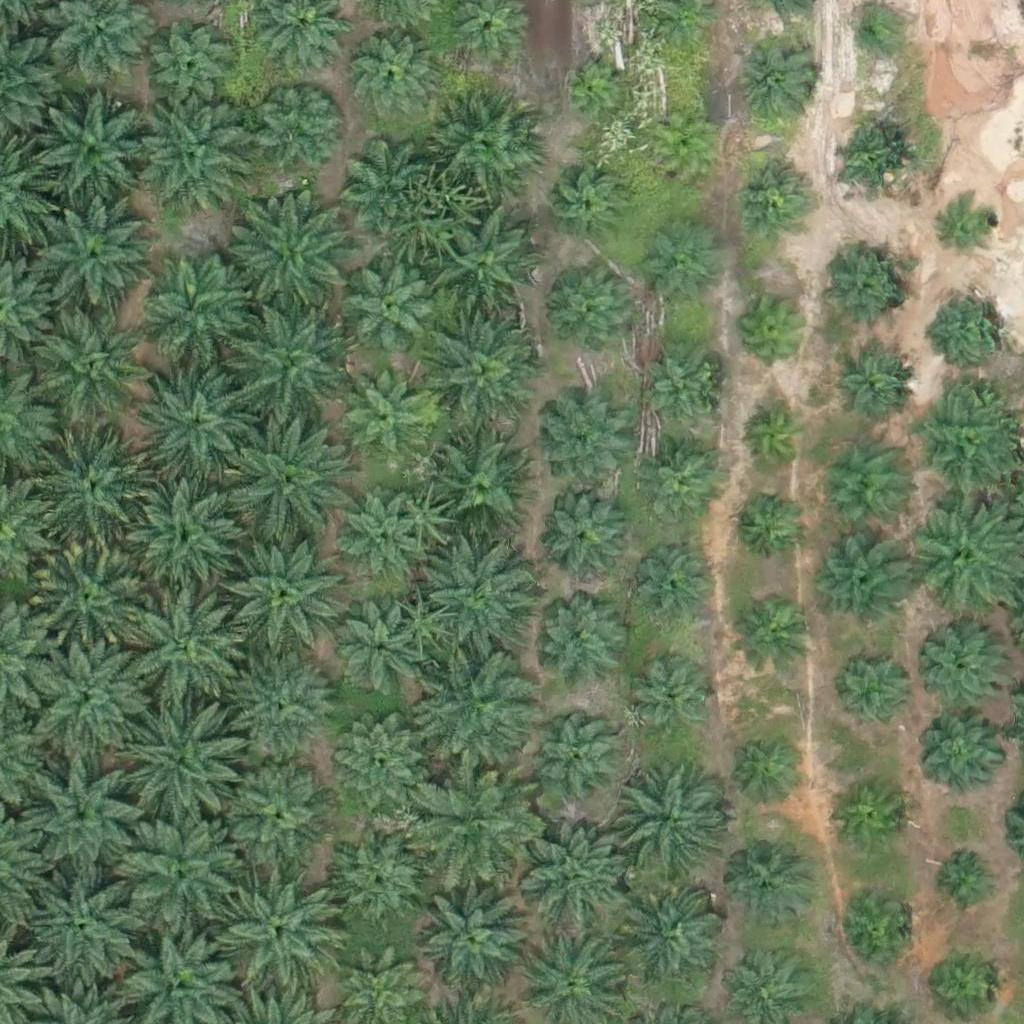Kelapa_Sawit: (222, 860, 347, 986), (28, 865, 153, 991), (608, 761, 733, 887), (512, 809, 637, 935), (234, 304, 359, 430), (226, 416, 351, 542), (225, 530, 350, 656), (117, 690, 242, 816), (117, 574, 242, 700), (118, 469, 243, 595), (134, 357, 259, 483), (135, 84, 260, 210), (29, 88, 154, 214), (26, 198, 151, 324), (19, 534, 144, 660), (24, 759, 149, 885), (230, 199, 355, 324), (117, 809, 242, 934), (28, 424, 153, 549), (429, 320, 542, 433), (414, 654, 527, 767), (418, 774, 531, 887), (226, 658, 339, 771), (33, 631, 146, 744), (421, 539, 533, 653), (415, 881, 527, 994), (911, 388, 1023, 501), (221, 759, 333, 872), (918, 613, 1018, 714), (438, 219, 538, 320), (429, 431, 529, 532), (40, 315, 140, 416), (613, 884, 713, 984), (810, 444, 910, 544), (432, 96, 532, 196), (325, 710, 425, 810), (147, 258, 247, 358), (824, 249, 912, 337), (916, 707, 1004, 795), (636, 442, 724, 530), (633, 659, 721, 747), (542, 399, 630, 487), (539, 488, 627, 576), (536, 716, 624, 804), (335, 829, 423, 917), (339, 611, 427, 699), (349, 266, 437, 354), (255, 82, 343, 170), (144, 22, 232, 110), (548, 268, 635, 357), (352, 32, 439, 121), (828, 346, 915, 434), (819, 534, 906, 622), (635, 350, 722, 438), (627, 544, 714, 632), (533, 599, 620, 687), (722, 839, 809, 927), (336, 487, 423, 575), (341, 372, 428, 460), (340, 139, 427, 227), (832, 124, 907, 200), (735, 599, 810, 675), (730, 488, 805, 564), (736, 400, 811, 476), (934, 287, 1009, 363), (835, 891, 910, 967), (741, 40, 816, 116), (549, 167, 624, 242), (646, 231, 721, 306), (733, 158, 808, 233), (739, 291, 814, 366), (732, 735, 807, 810), (832, 775, 907, 850), (841, 655, 916, 730), (650, 115, 713, 178), (939, 196, 1001, 259), (933, 845, 995, 908), (559, 55, 621, 117), (847, 11, 897, 61)
